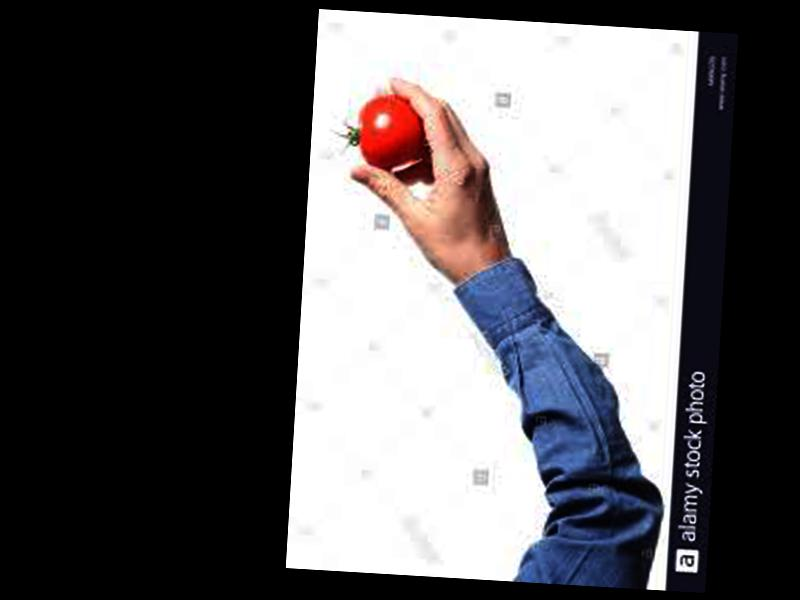Tomato: (358, 92, 423, 168)
